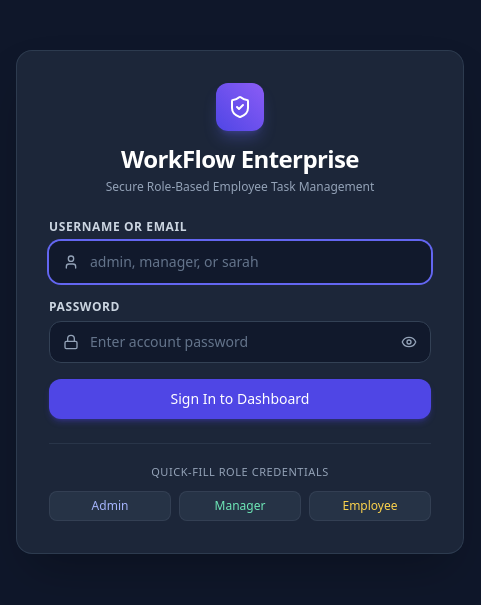
Test case: Authentication & Authorization Frontend Suite › 5. displays friendly error message on failed login response
The image size is (481, 605).
Type "unknown_user" into the field with placeholder "admin, manager, or sarah" at (240, 262), box [49,241,431,283]
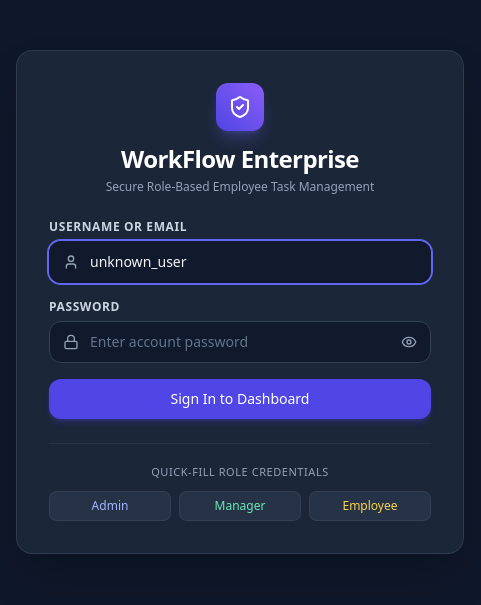
Type "wrongpass" into the password field with placeholder "Enter account password" at (240, 342), box [49,321,431,363]
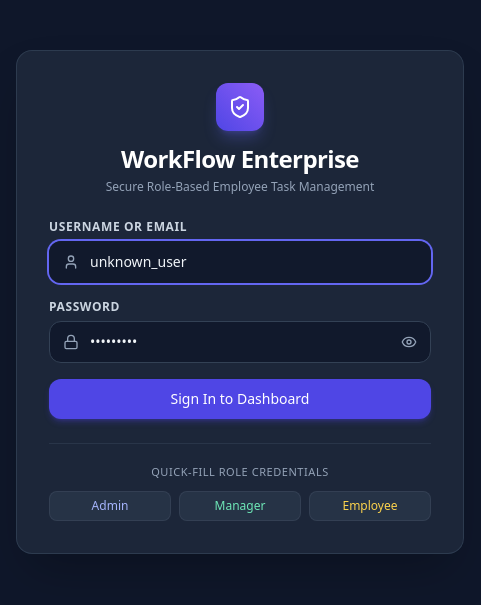
Click the button "Sign In to Dashboard" at (240, 399), box [49,379,431,419]
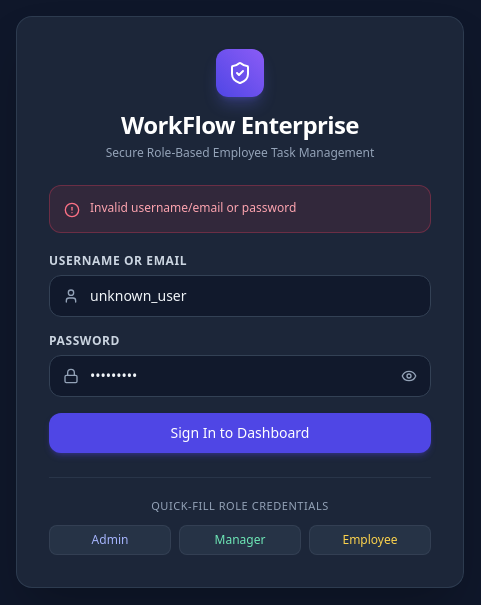
Now the text "Invalid username/email or password" is shown, box [90,200,296,216]
